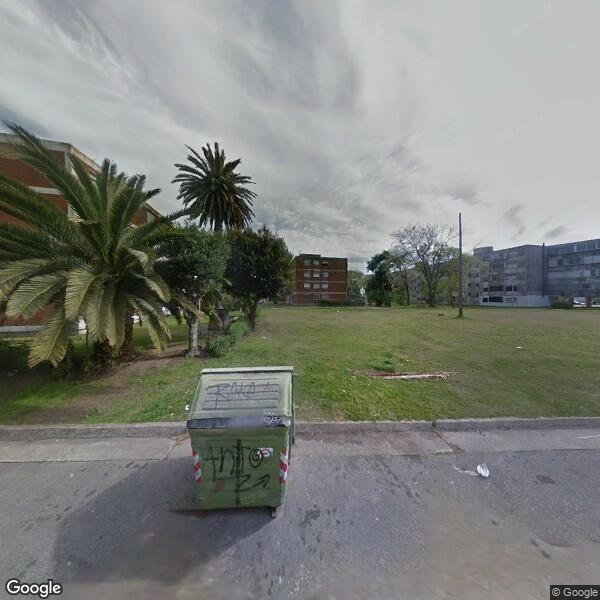Trash: (185, 364, 295, 514)
